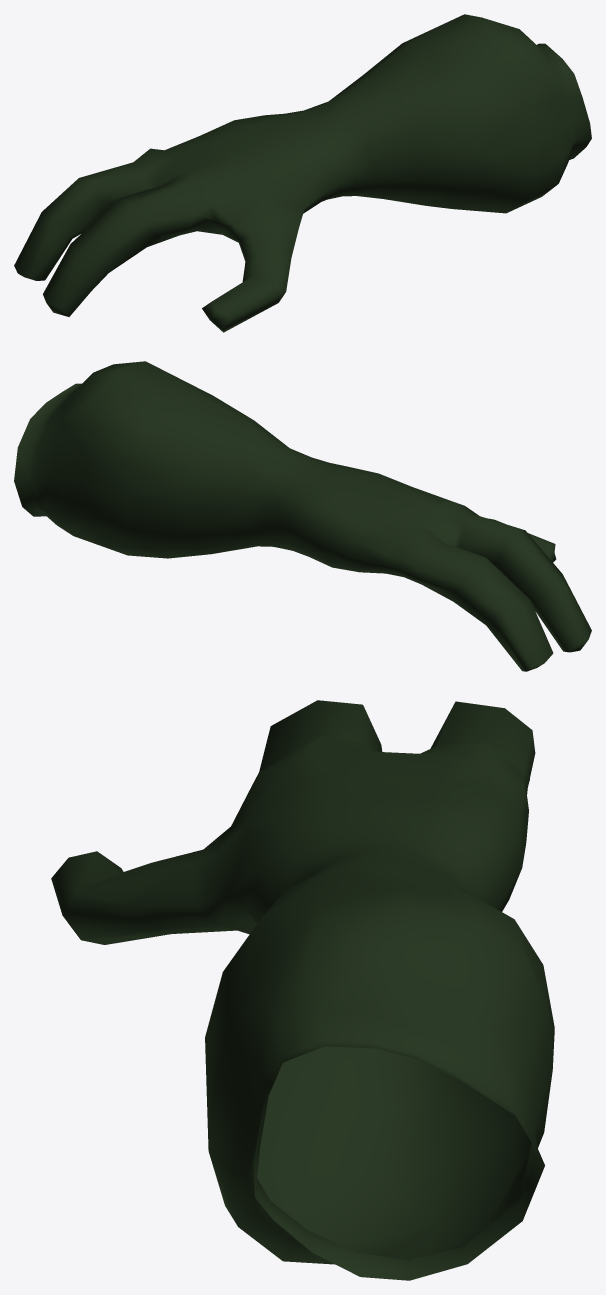
Rendered from spawner_Arm.fbx.
The picture shows the model from 3 angles, top to bottom: view 1: azimuth 30°, elevation 25°; view 2: azimuth 150°, elevation 25°; view 3: azimuth 270°, elevation 25°; orthographic projection. The views are drawn at different scales.
Parts seen in each view (by area): view 1: Spawner_arm; view 2: Spawner_arm; view 3: Spawner_arm.
Part boxes in pixels (x1=…): Spawner_arm: x1=14, y1=14, x2=591, y2=332; Spawner_arm: x1=14, y1=361, x2=591, y2=671; Spawner_arm: x1=51, y1=700, x2=554, y2=1280.
Size of the model in its own units: 112 by 37.12 by 46.82.
